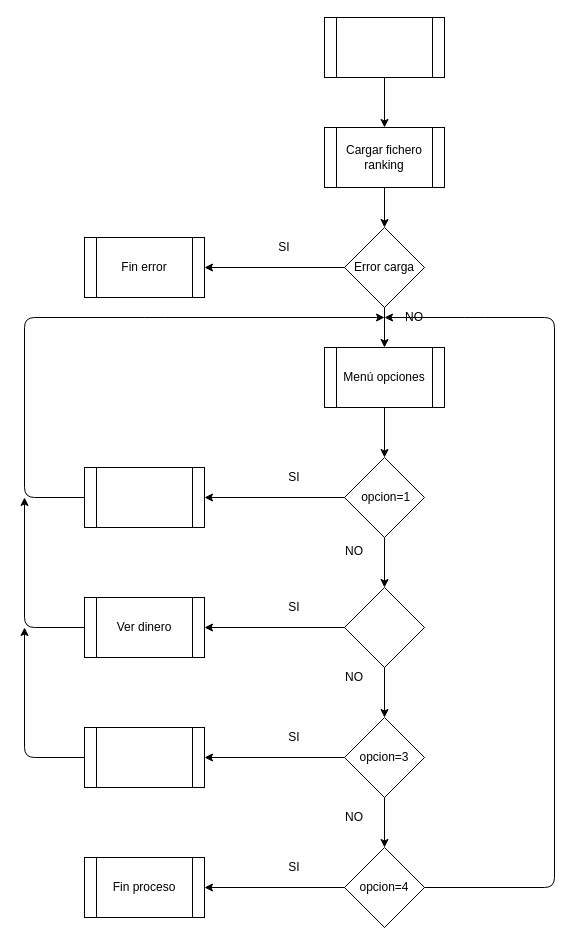
Image size: 580x945. Some labels were removed from this diagram. The centre of each missing label's shape, as x and y in pixels:
Inicio: point (384, 47)
opcion=2: point (384, 627)
Proceso de juego: point (144, 497)
Ver ranking: point (144, 757)
